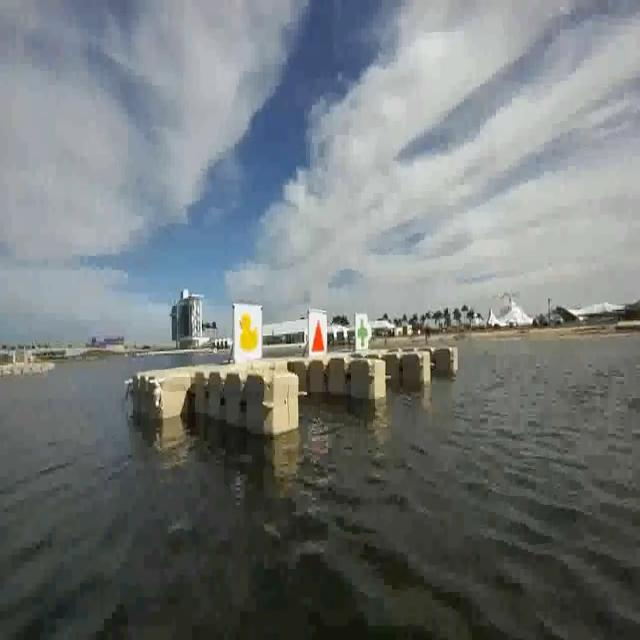blue-cross: (355, 317, 370, 350)
red-dot: (307, 319, 326, 353)
yellow-duck: (238, 312, 258, 352)
